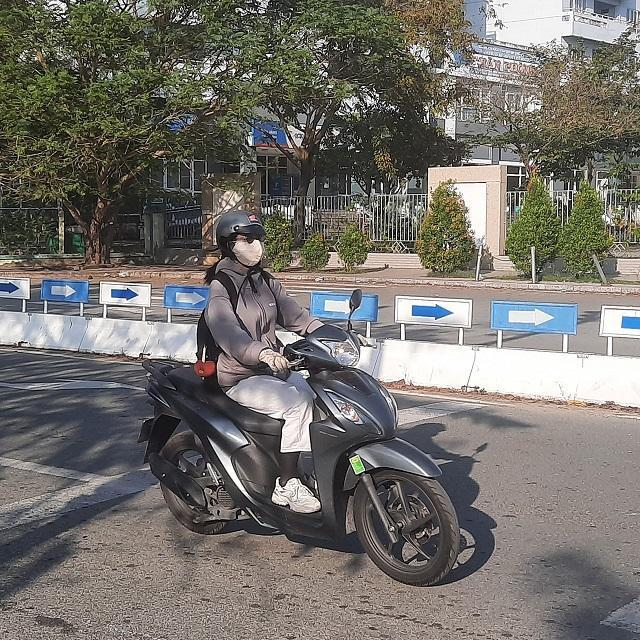Helmet: (216, 212, 272, 264)
